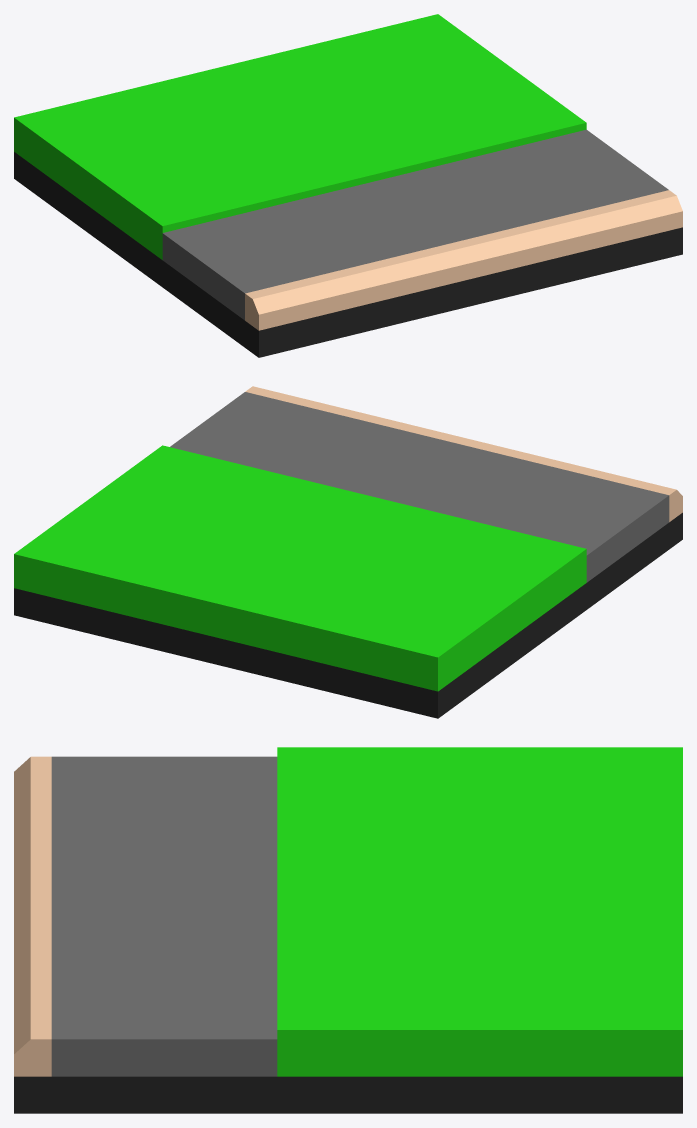
Rendered from SideWalk_01.FBX.
3 views of the same model, one above another, from view 1: azimuth 30°, elevation 25°; view 2: azimuth 150°, elevation 25°; view 3: azimuth 270°, elevation 25° (orthographic). The views are drawn at different scales.
Parts seen in each view (by area): view 1: SideWalk_01; view 2: SideWalk_01; view 3: SideWalk_01.
Boxes of the visible parts, x1=… form: SideWalk_01: x1=14, y1=14, x2=682, y2=357; SideWalk_01: x1=14, y1=386, x2=682, y2=718; SideWalk_01: x1=14, y1=747, x2=682, y2=1113.
Size of the model in its own units: 10 by 1.38 by 10.
